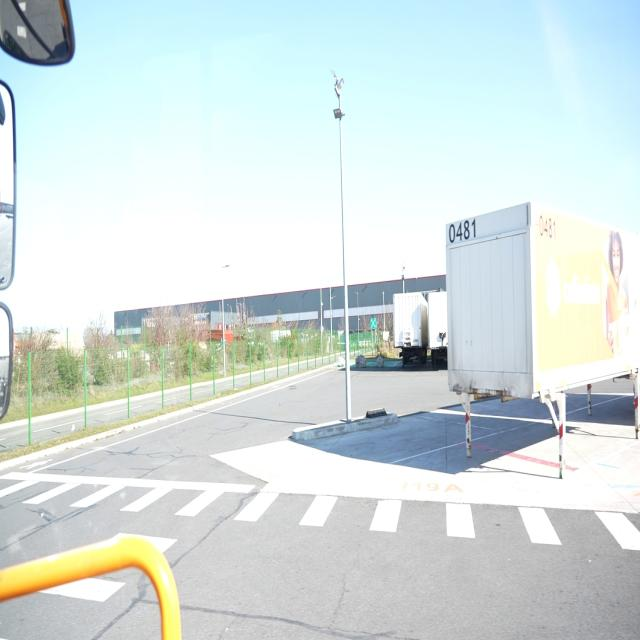Code: (446, 215, 481, 245), (536, 207, 560, 246)
